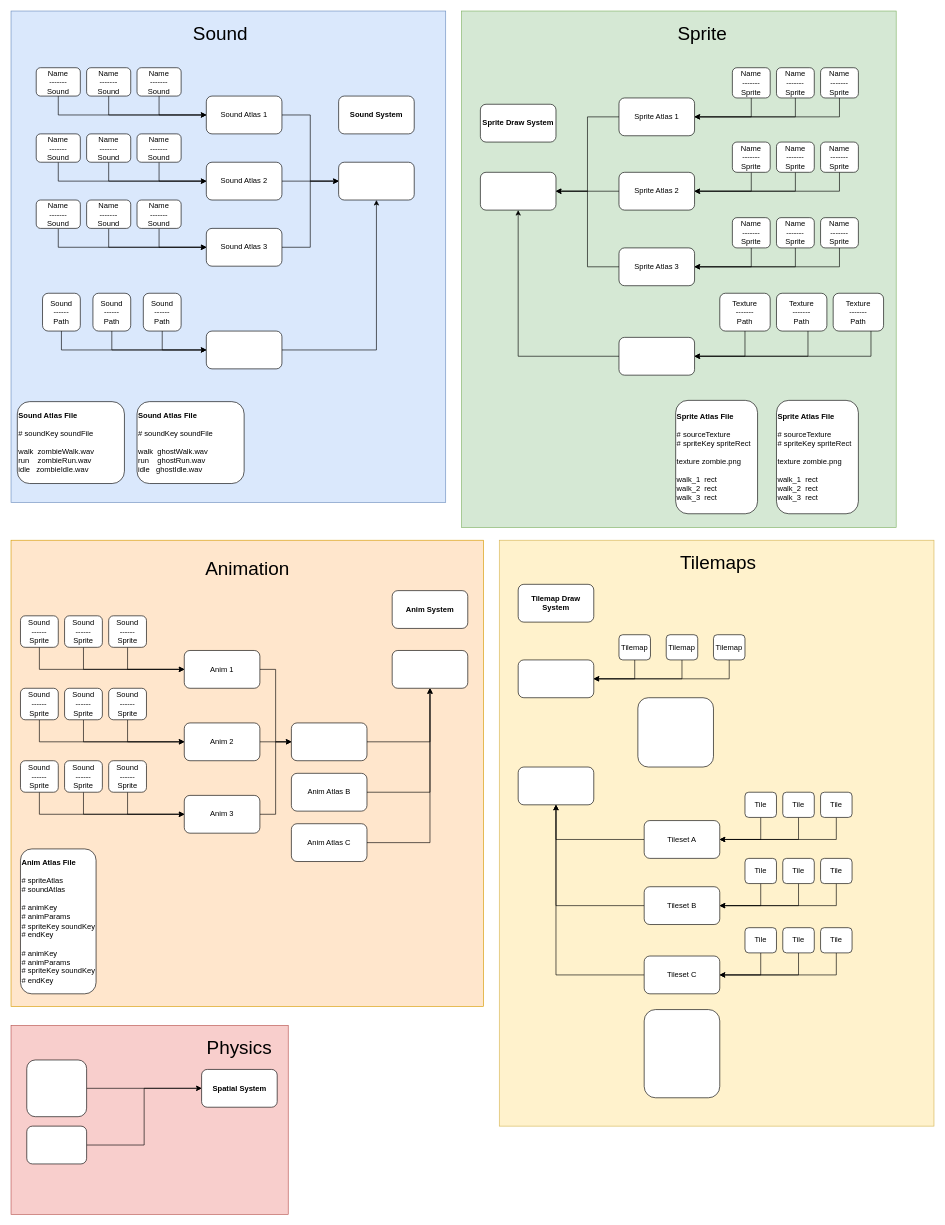
Image size: 945x1225. Some labels were removed from this diagram. Here are the shapes that lost their labels. From the top down, the centre of each, then its label:
the point at 376,181: Sound Atlas Manager
the point at 518,191: Sprite Atlas Manager
the point at 244,349: Sound Manager
the point at 656,356: Texture Manager
the point at 430,669: Anim Atlas Manager
the point at 556,678: Tilemap Manager
the point at 329,741: Anim Atlas A
the point at 675,732: Tilemap File # tile atlas id id id id id id id id id id
the point at 556,785: Tileset Manager
the point at 682,1053: Tileset File # texture # tilesize # x y # x y # x y
the point at 56,1088: Rigid -------- velocity layer
the point at 56,1144: Collider ------ radius
